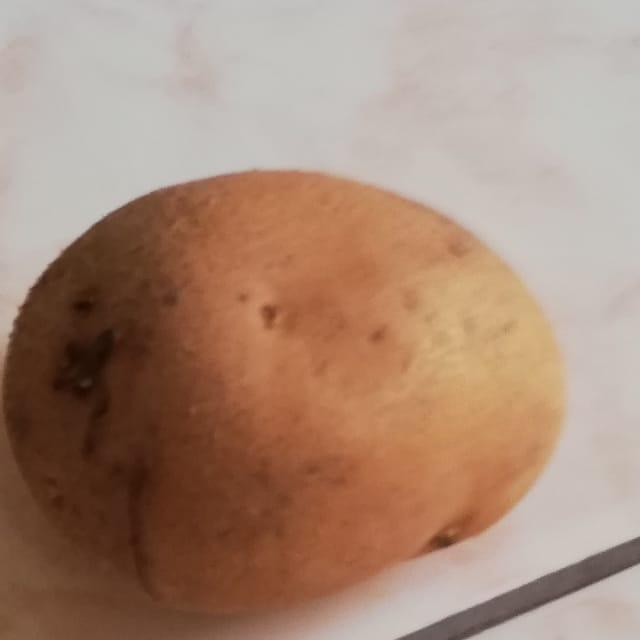potato: (0, 135, 578, 622)
